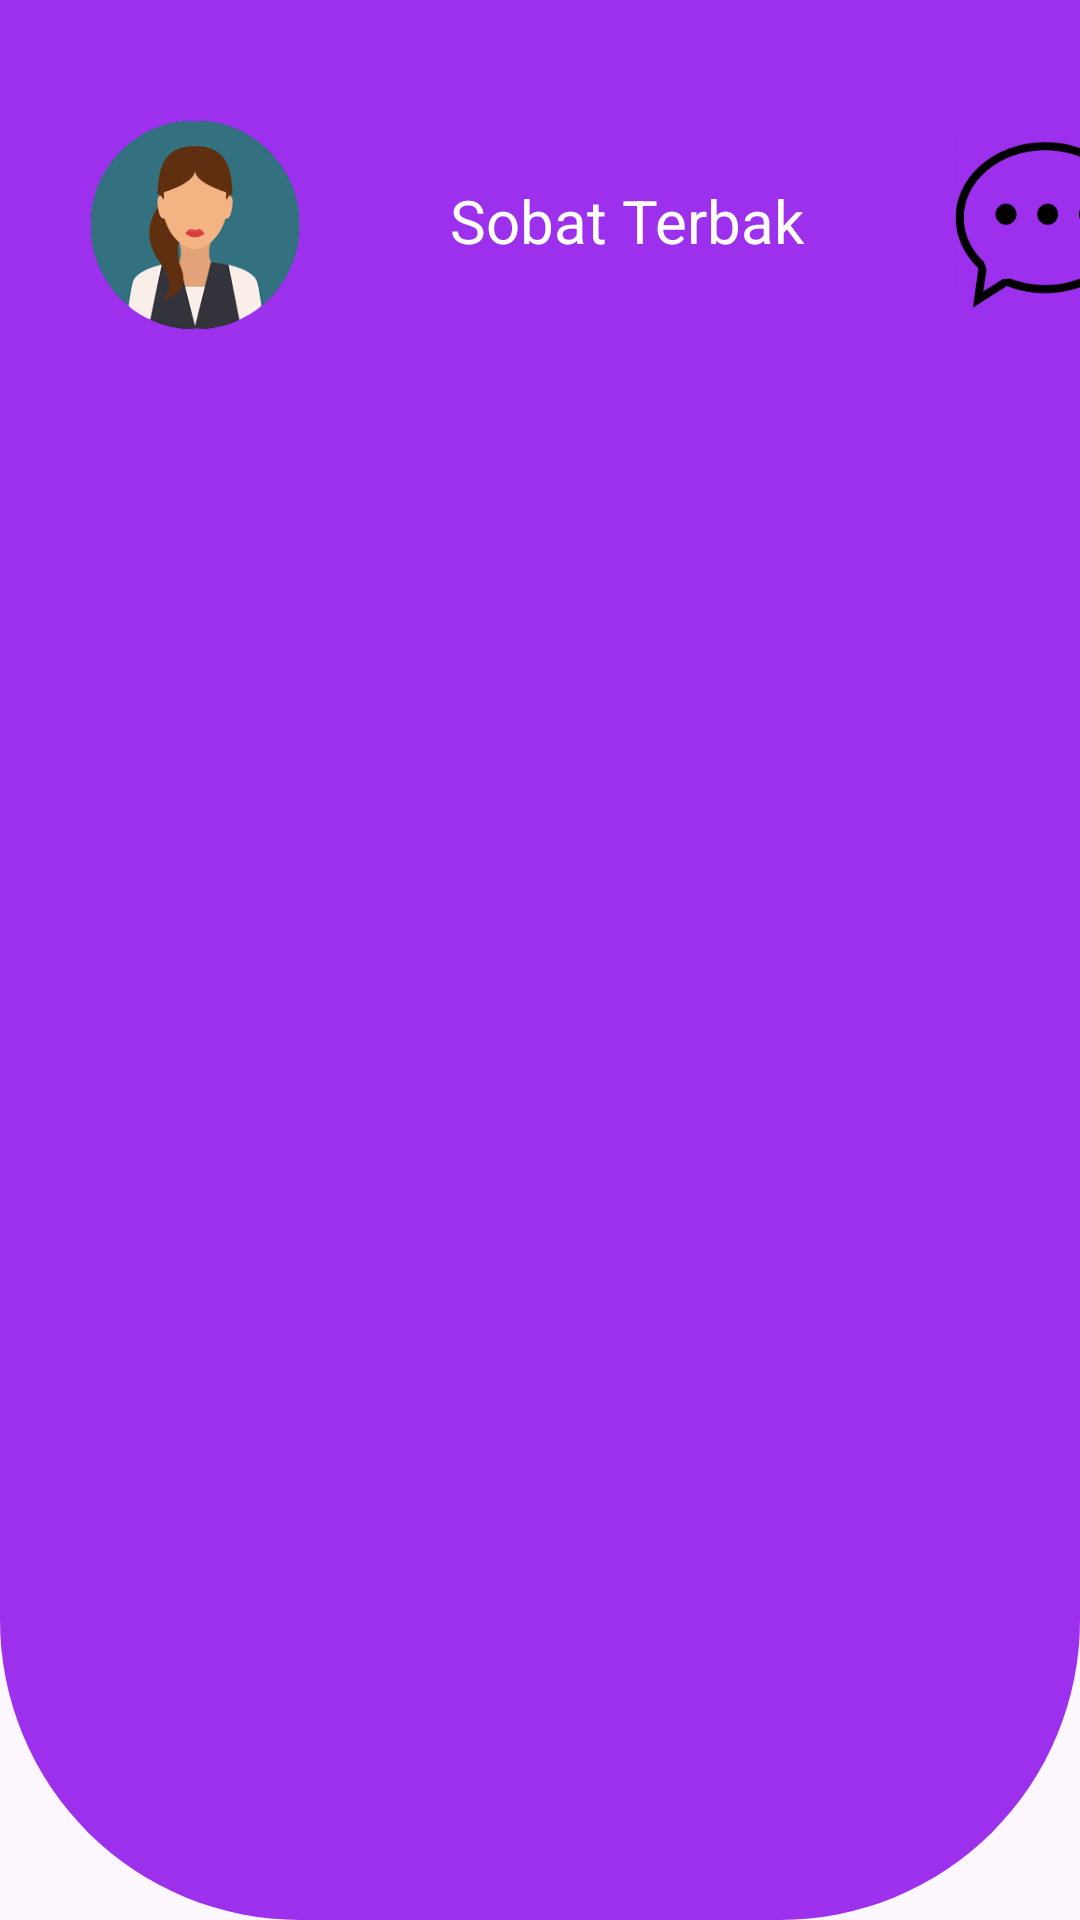

Where to tap for icons on this 1080x1920 app screen, as (x=x, y=y):
iser pic: (x=195, y=225)
